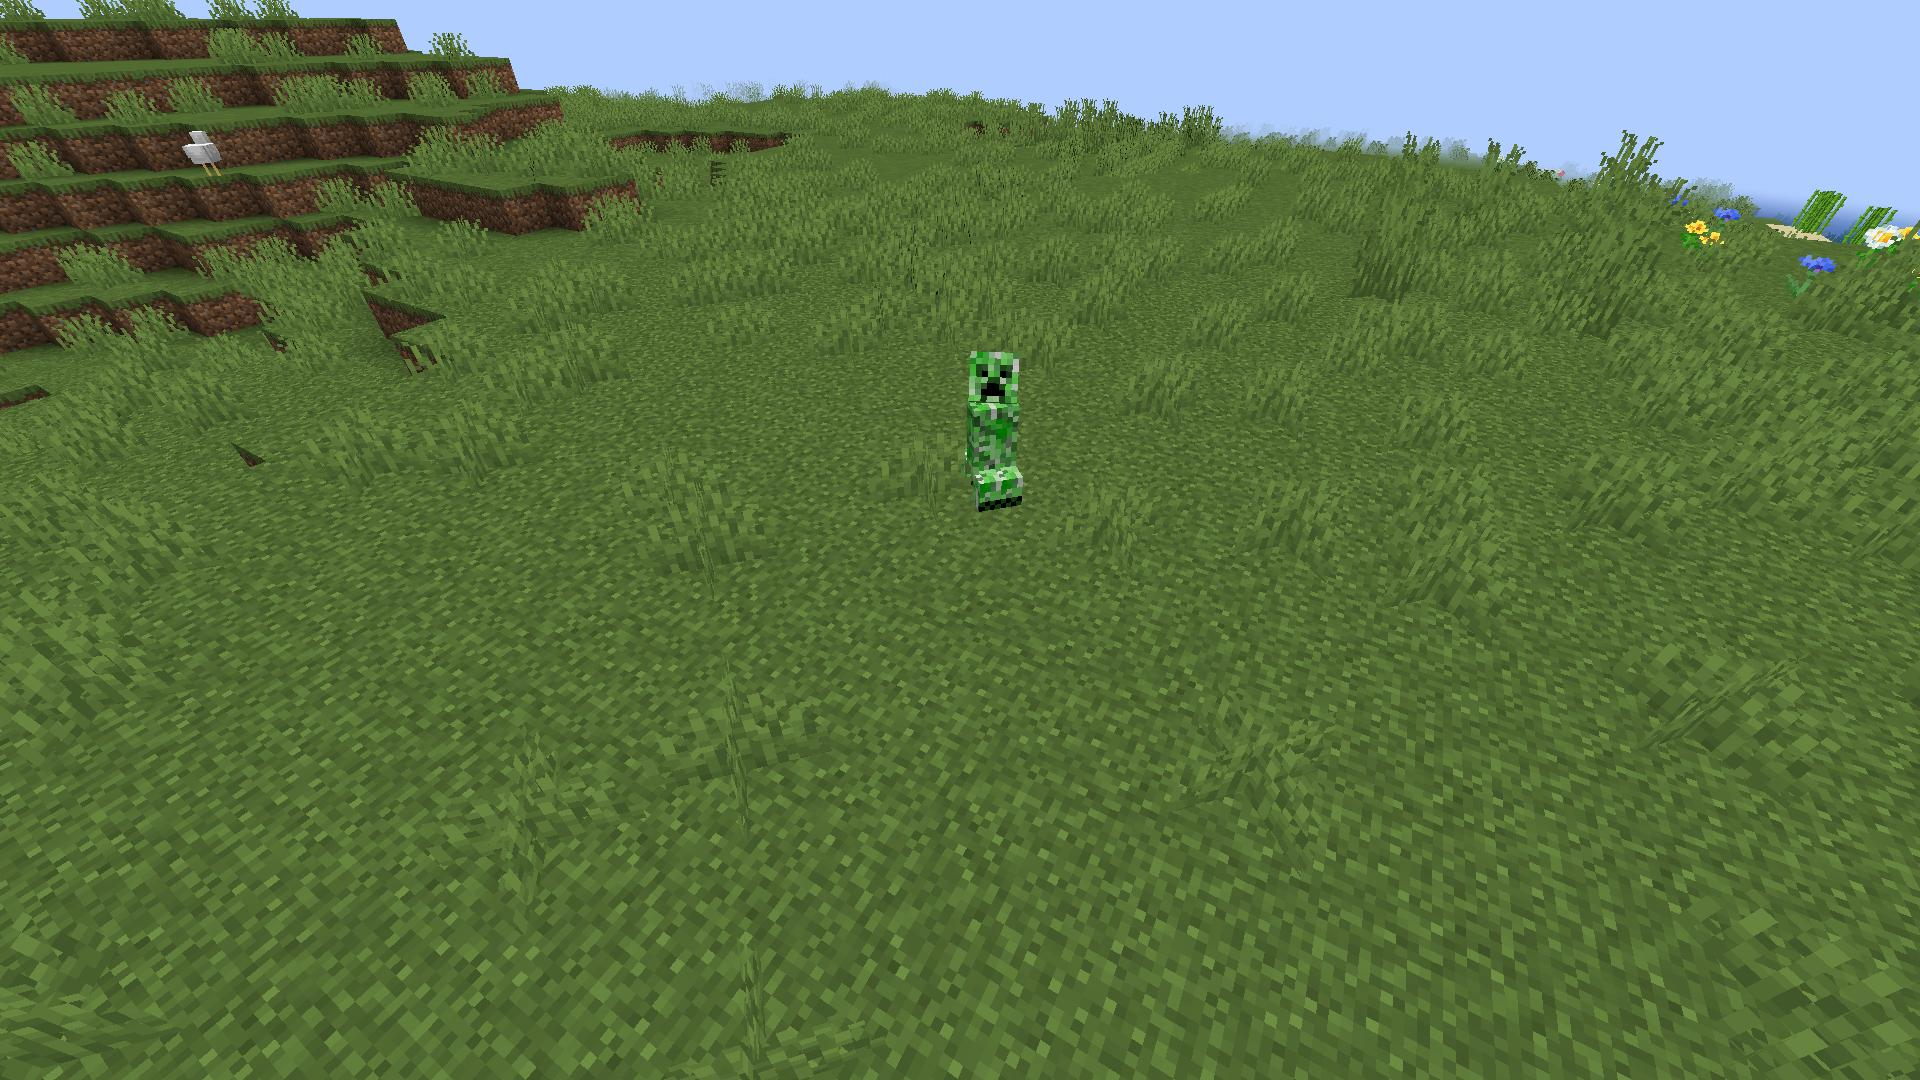creeper: (956, 340, 1040, 534)
